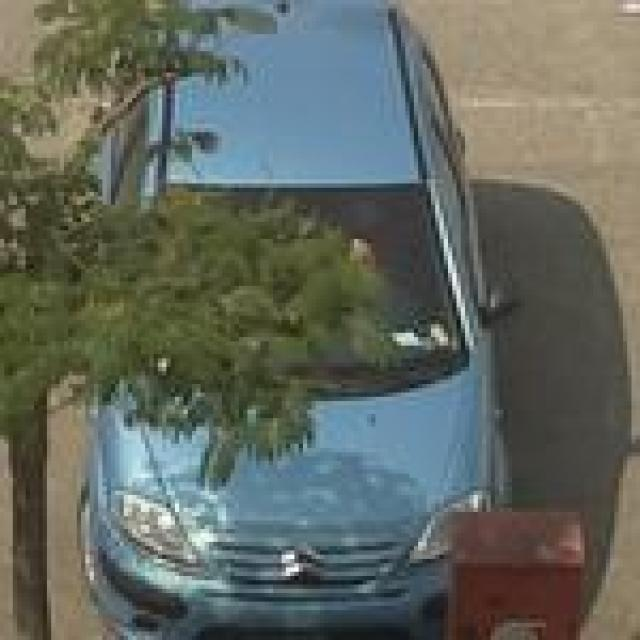cars-sUYr: (61, 0, 578, 640)
